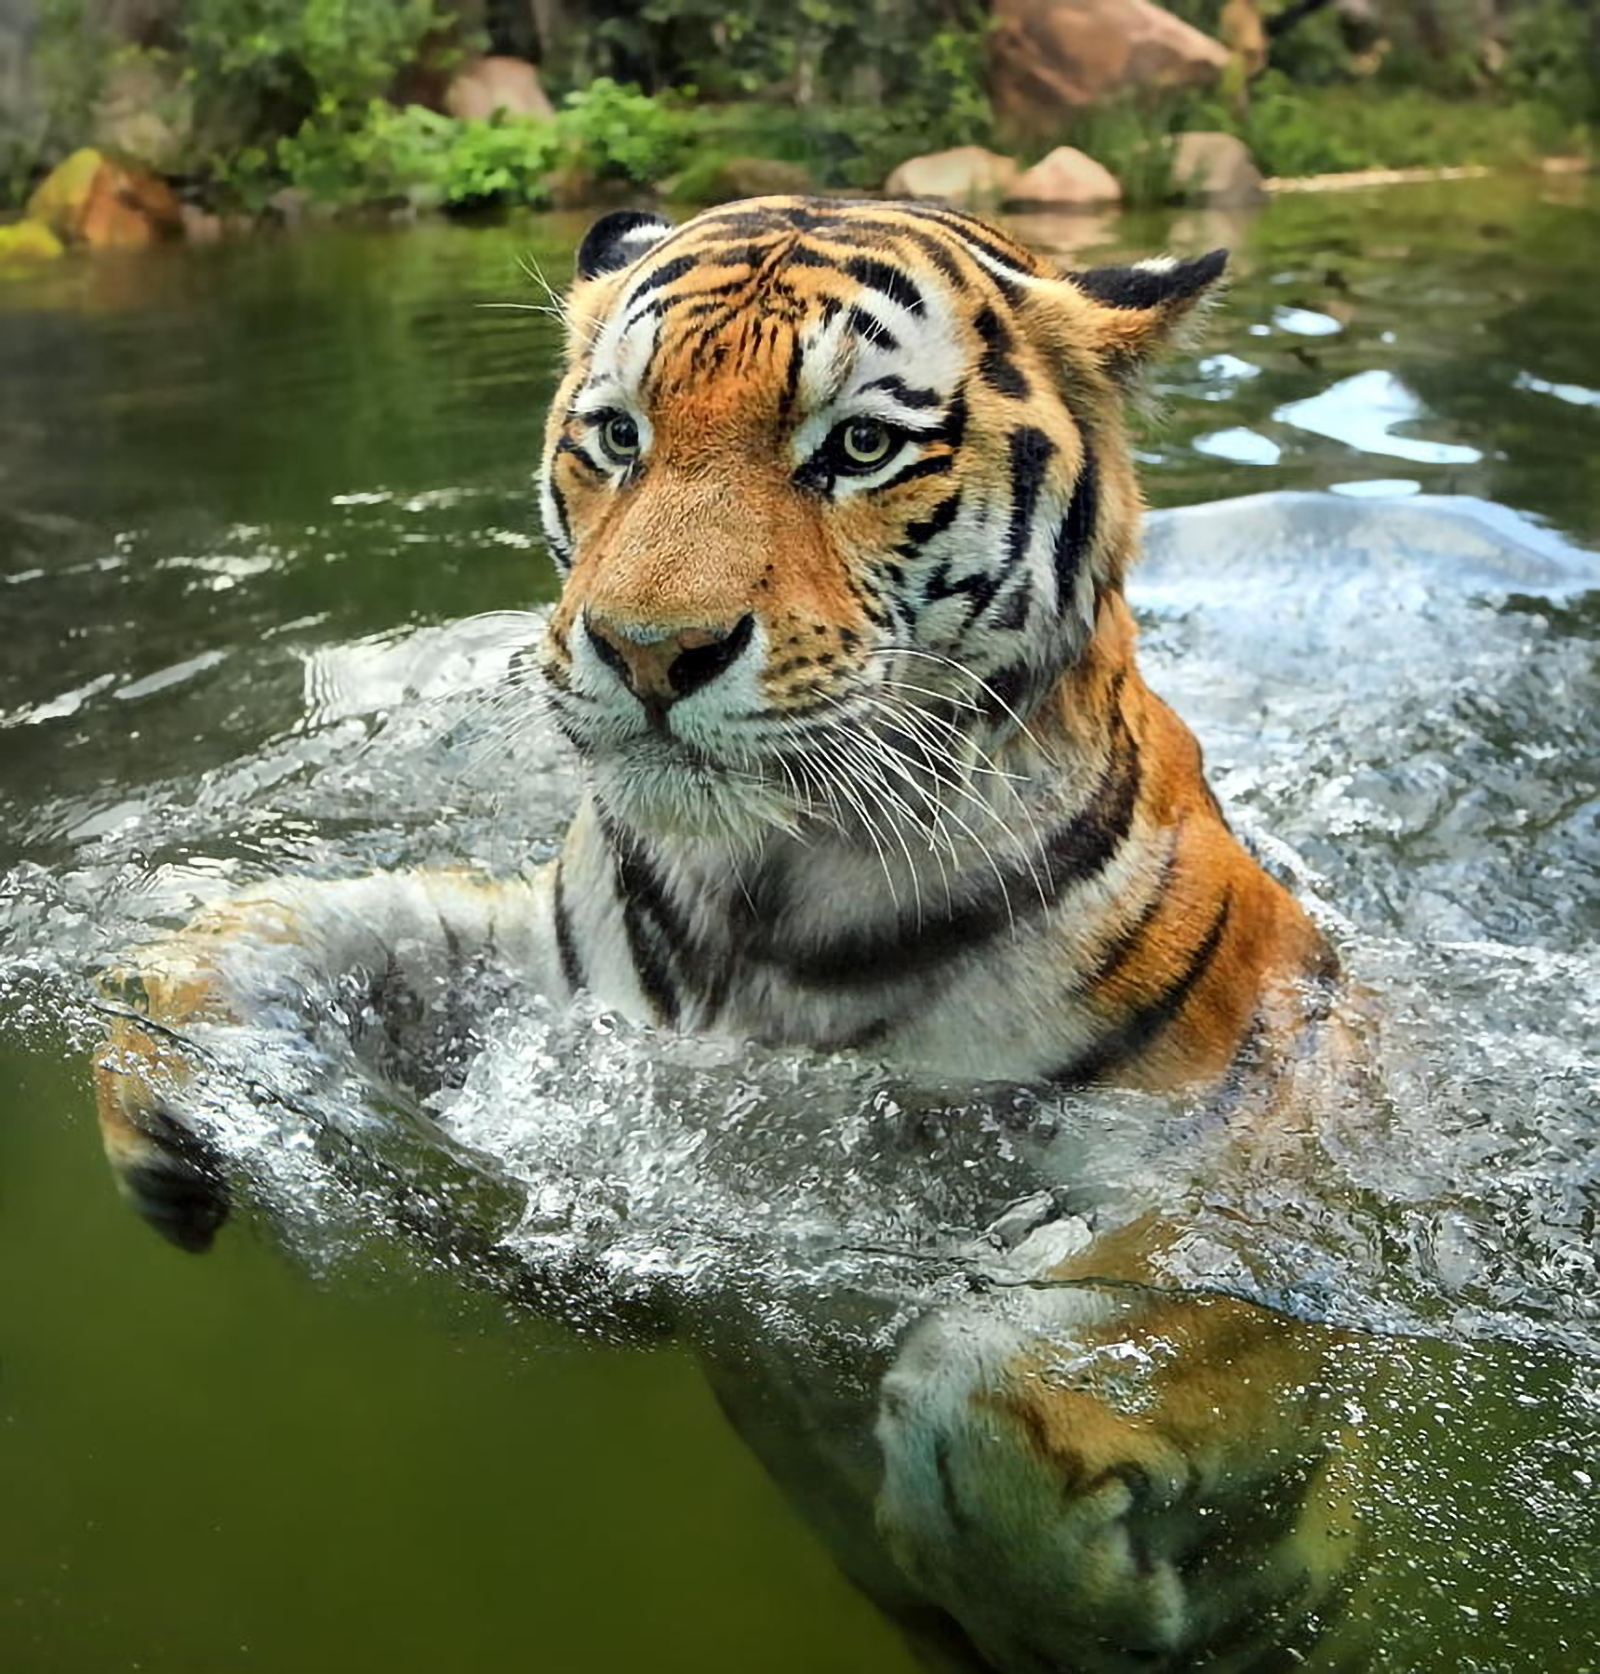tiger: (464, 143, 1370, 1318)
